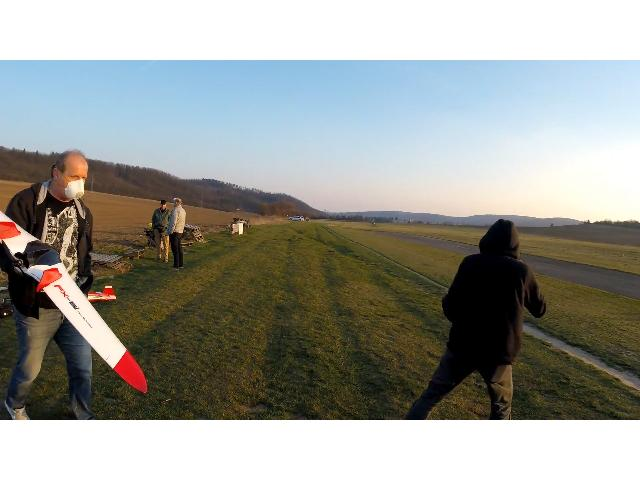Anti-Drone: (0, 192, 152, 400)
